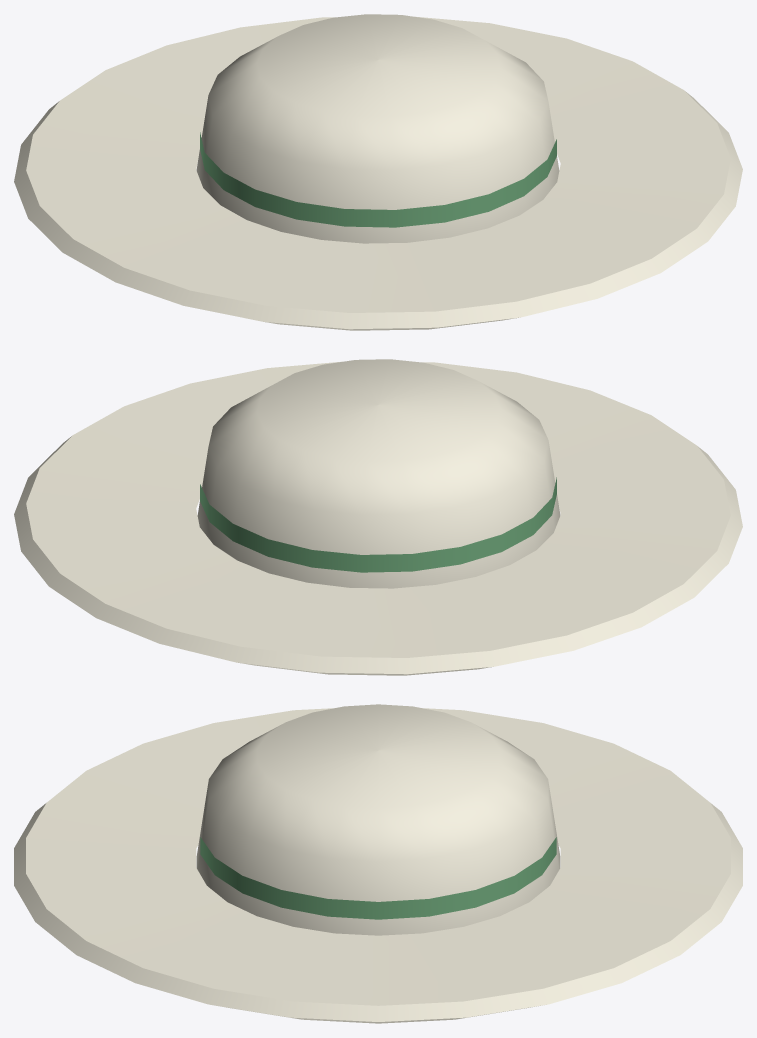
File: hat_sun.glb
3 renders of one model, top to bottom at view 1: azimuth 30°, elevation 25°; view 2: azimuth 150°, elevation 25°; view 3: azimuth 270°, elevation 25°, orthographic.
Visible parts, largest first — view 1: Hat; view 2: Hat; view 3: Hat.
Boxes of the visible parts, box(x1,y1,x2,y2) form: Hat: box(14, 14, 742, 330); Hat: box(14, 359, 742, 675); Hat: box(14, 704, 742, 1023).
Size of the model in its own units: 0.6 by 0.125 by 0.5956.
